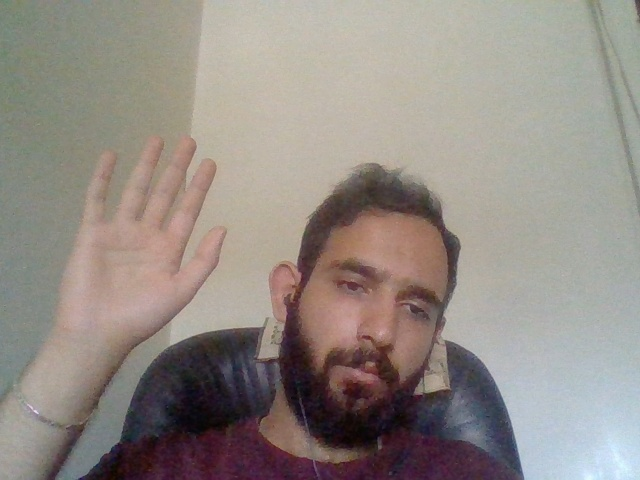Goodbye: (61, 122, 227, 368)
